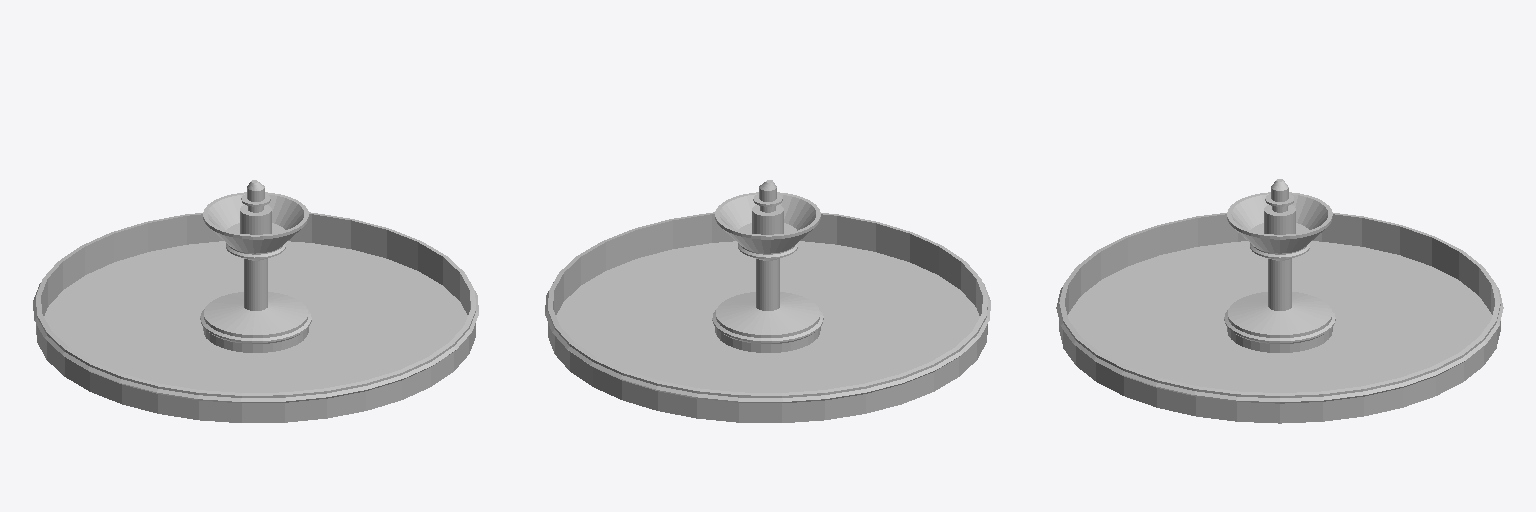
File: fountain.obj
The picture shows the model from 3 angles: view 1: azimuth 30°, elevation 25°; view 2: azimuth 150°, elevation 25°; view 3: azimuth 270°, elevation 25°; orthographic projection.
Visible parts, largest first — view 1: Landmass.002; view 2: Landmass.002; view 3: Landmass.002.
Part boxes in pixels (bbox=[...]): Landmass.002: bbox=[33, 180, 478, 422]; Landmass.002: bbox=[545, 180, 990, 422]; Landmass.002: bbox=[1056, 179, 1503, 423].
Size of the model in its own units: 15.31 by 5.66 by 15.31.